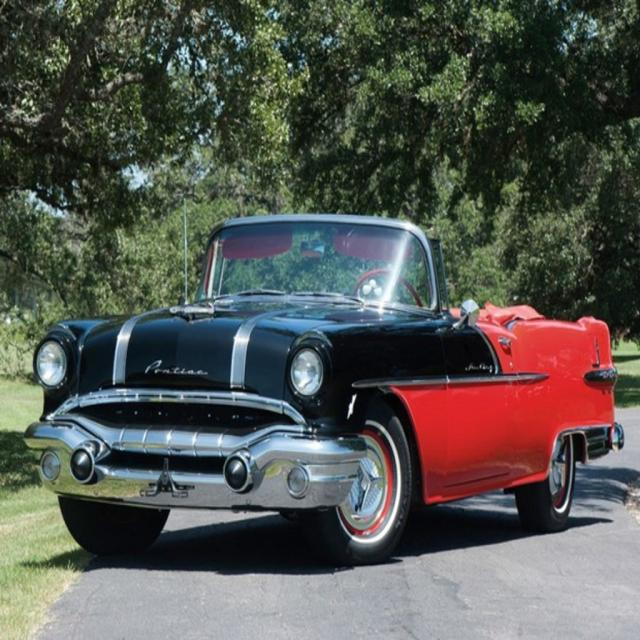car: (20, 212, 624, 568)
